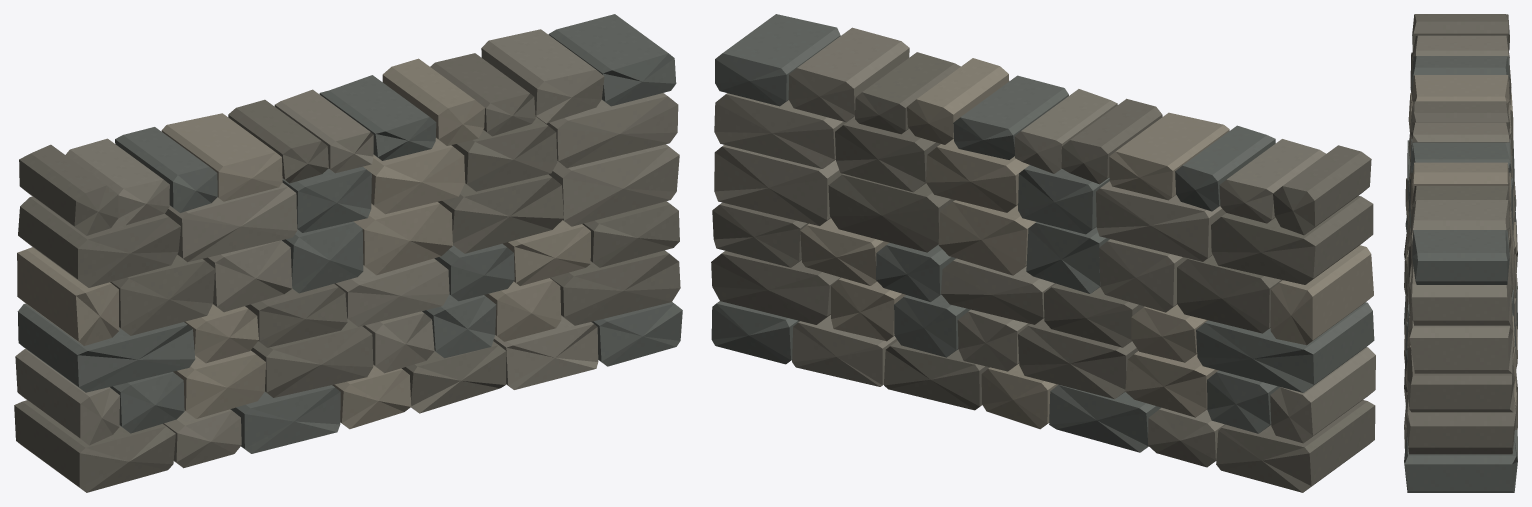
The model's file is CC0_DryStoneWall_Optimized.glb.
3 renders of one model, left to right at view 1: azimuth 30°, elevation 25°; view 2: azimuth 150°, elevation 25°; view 3: azimuth 270°, elevation 25°, orthographic. The views are drawn at different scales.
Parts seen in each view (by area): view 1: wall_Weathered dry stone 0, wall_Weathered dry stone 1, wall_Weathered dry stone 2, wall_Weathered dry stone 3; view 2: wall_Weathered dry stone 0, wall_Weathered dry stone 1, wall_Weathered dry stone 2, wall_Weathered dry stone 3; view 3: wall_Weathered dry stone 1, wall_Weathered dry stone 0, wall_Weathered dry stone 2, wall_Weathered dry stone 3.
Part boxes in pixels (x1=…): wall_Weathered dry stone 0: x1=14, y1=53, x2=680, y2=492; wall_Weathered dry stone 1: x1=15, y1=29, x2=679, y2=468; wall_Weathered dry stone 2: x1=17, y1=14, x2=682, y2=453; wall_Weathered dry stone 3: x1=17, y1=58, x2=590, y2=429; wall_Weathered dry stone 0: x1=711, y1=52, x2=1375, y2=492; wall_Weathered dry stone 1: x1=714, y1=27, x2=1375, y2=467; wall_Weathered dry stone 2: x1=711, y1=14, x2=1374, y2=452; wall_Weathered dry stone 3: x1=800, y1=58, x2=1373, y2=429; wall_Weathered dry stone 1: x1=1404, y1=35, x2=1517, y2=449; wall_Weathered dry stone 0: x1=1404, y1=14, x2=1517, y2=454; wall_Weathered dry stone 2: x1=1404, y1=56, x2=1517, y2=492; wall_Weathered dry stone 3: x1=1404, y1=75, x2=1517, y2=405.
Size of the model in its own units: 2.39 by 1.13 by 0.4759.
Materials: 4 (4 with a texture image).
